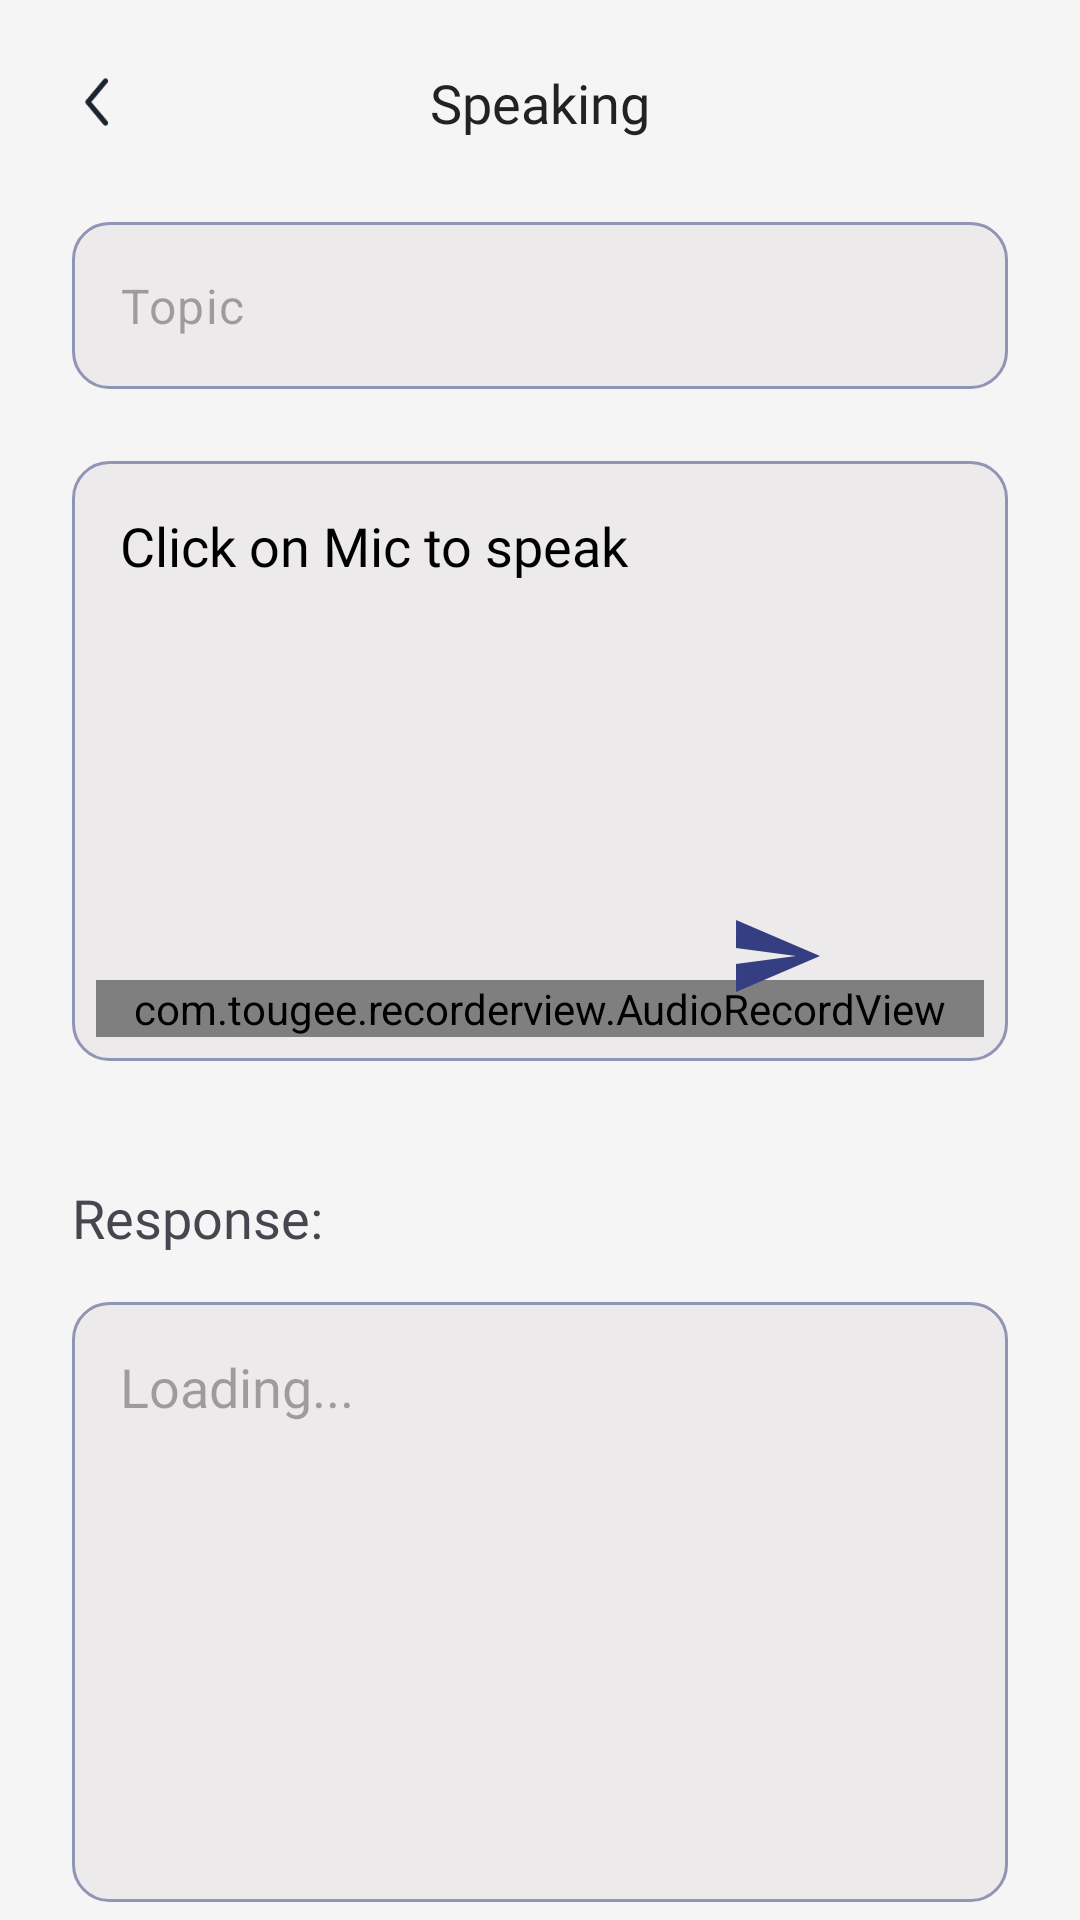

Where icons sit on this 1080px x 1920px app screen, as (x1, y1, x2, y2):
back: (85, 78, 108, 126)
